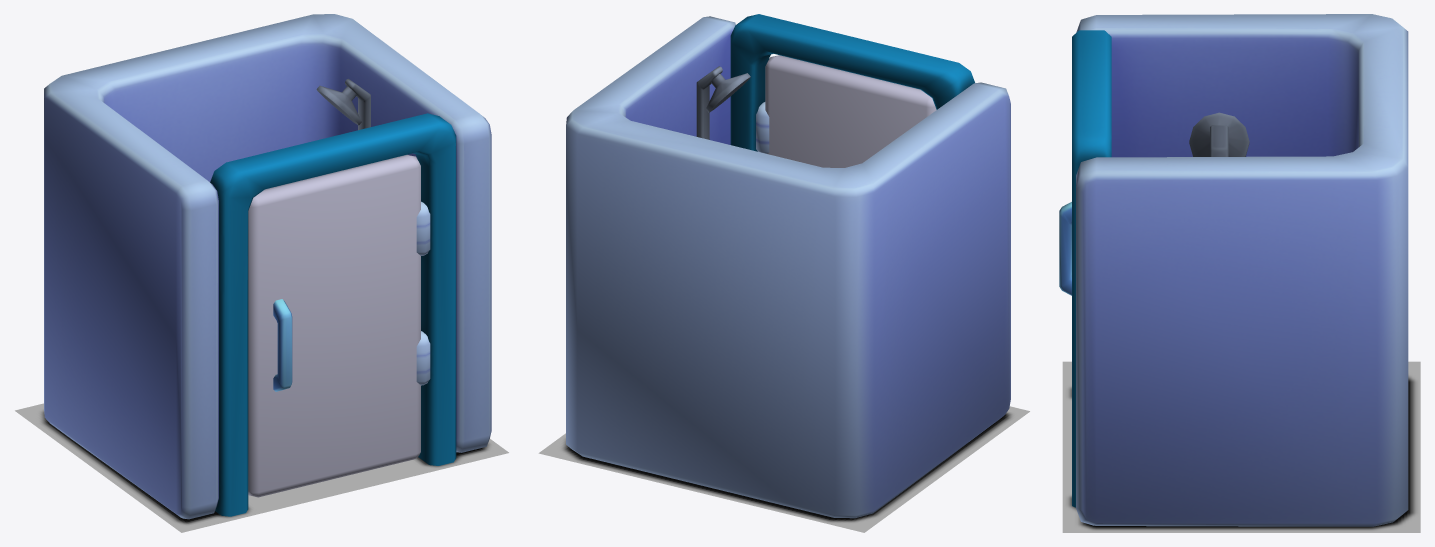
File: Toilet_Item_Showers.FBX
3 renders of one model, left to right at view 1: azimuth 30°, elevation 25°; view 2: azimuth 150°, elevation 25°; view 3: azimuth 270°, elevation 25°, orthographic. The views are drawn at different scales.
Parts seen in each view (by area): view 1: Toilet_Item_Showers, Toilet_Shadow_Showers; view 2: Toilet_Item_Showers, Toilet_Shadow_Showers; view 3: Toilet_Item_Showers, Toilet_Shadow_Showers.
Boxes of the visible parts, left/top/right/bottom form: Toilet_Item_Showers: left=44, top=14, right=491, bottom=519; Toilet_Shadow_Showers: left=15, top=403, right=508, bottom=532; Toilet_Item_Showers: left=566, top=14, right=1010, bottom=518; Toilet_Shadow_Showers: left=538, top=406, right=1029, bottom=532; Toilet_Item_Showers: left=1059, top=14, right=1408, bottom=526; Toilet_Shadow_Showers: left=1062, top=361, right=1420, bottom=532.
Size of the model in its own units: 1.97 by 1.96 by 1.76.
